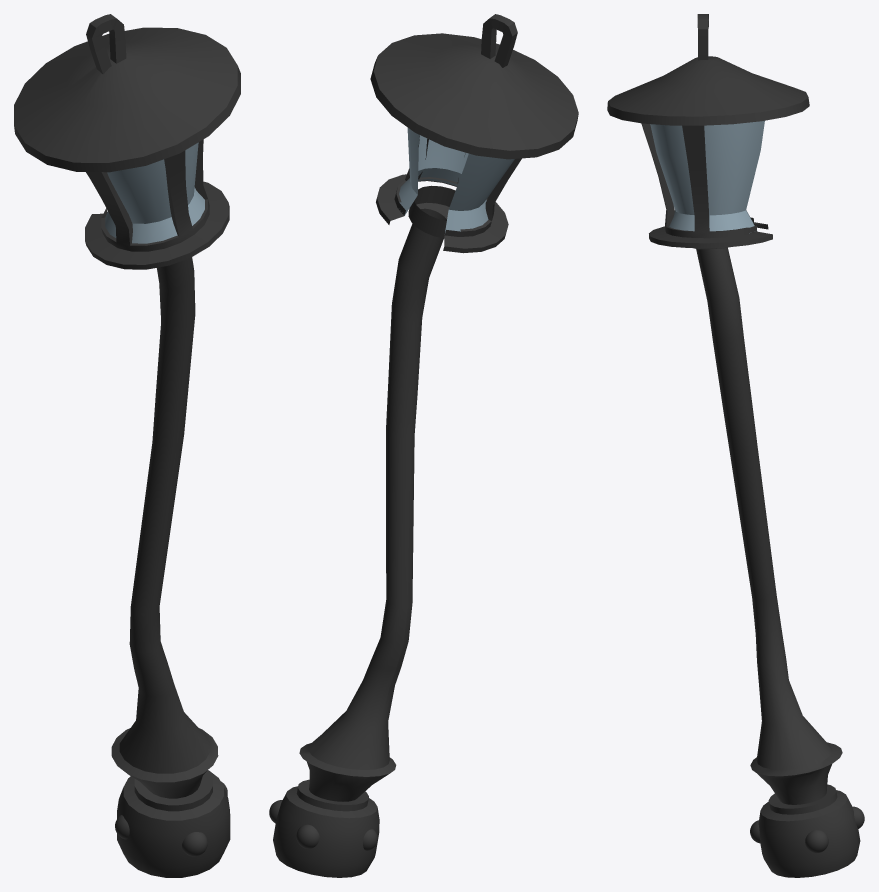
The model's file is street light.fbx.
3 views of the same model, side by side, from view 1: azimuth 30°, elevation 25°; view 2: azimuth 150°, elevation 25°; view 3: azimuth 270°, elevation 25° (orthographic). The views are drawn at different scales.
Parts seen in each view (by area): view 1: steet_light; view 2: steet_light; view 3: steet_light.
Boxes of the visible parts, <box> form: steet_light: <box>14,14,240,877</box>; steet_light: <box>269,14,578,877</box>; steet_light: <box>607,14,864,877</box>.
Size of the model in its own units: 0.0141 by 0.0475 by 0.0139.
